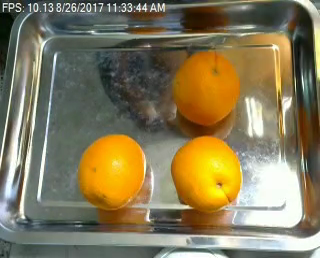Orange: (171, 135, 243, 214), (77, 134, 149, 210), (173, 49, 241, 126)
